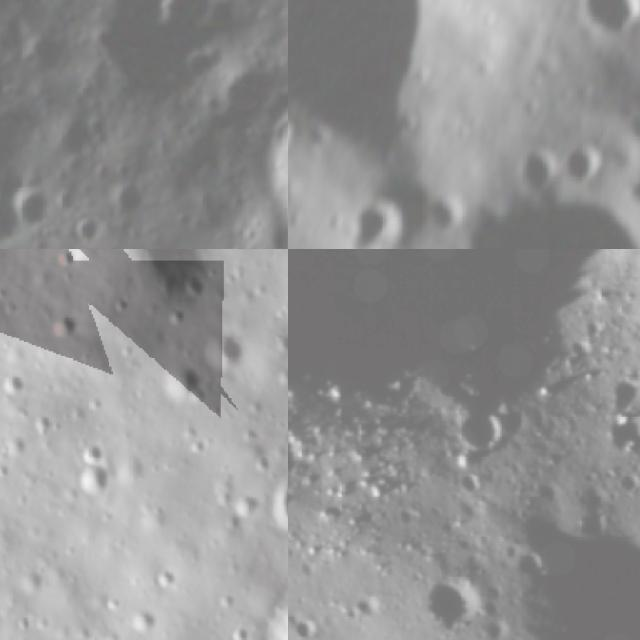crater: (388, 130, 640, 249), (288, 0, 457, 174), (80, 0, 223, 102), (108, 249, 217, 308), (408, 572, 489, 640), (504, 136, 562, 205), (454, 408, 509, 463), (342, 203, 407, 249), (556, 137, 612, 190), (567, 0, 640, 40), (198, 328, 248, 379), (156, 360, 207, 406), (67, 462, 118, 504), (16, 181, 56, 232), (104, 179, 153, 219), (262, 469, 288, 543), (27, 33, 72, 74), (255, 587, 288, 640), (72, 436, 119, 471), (288, 434, 323, 481), (44, 308, 84, 348), (123, 599, 160, 639), (230, 487, 267, 525), (0, 185, 22, 246), (70, 213, 107, 249), (148, 558, 183, 595), (0, 367, 33, 401), (54, 249, 83, 279), (623, 175, 640, 215), (224, 618, 250, 640), (215, 588, 236, 613), (276, 329, 288, 360)
